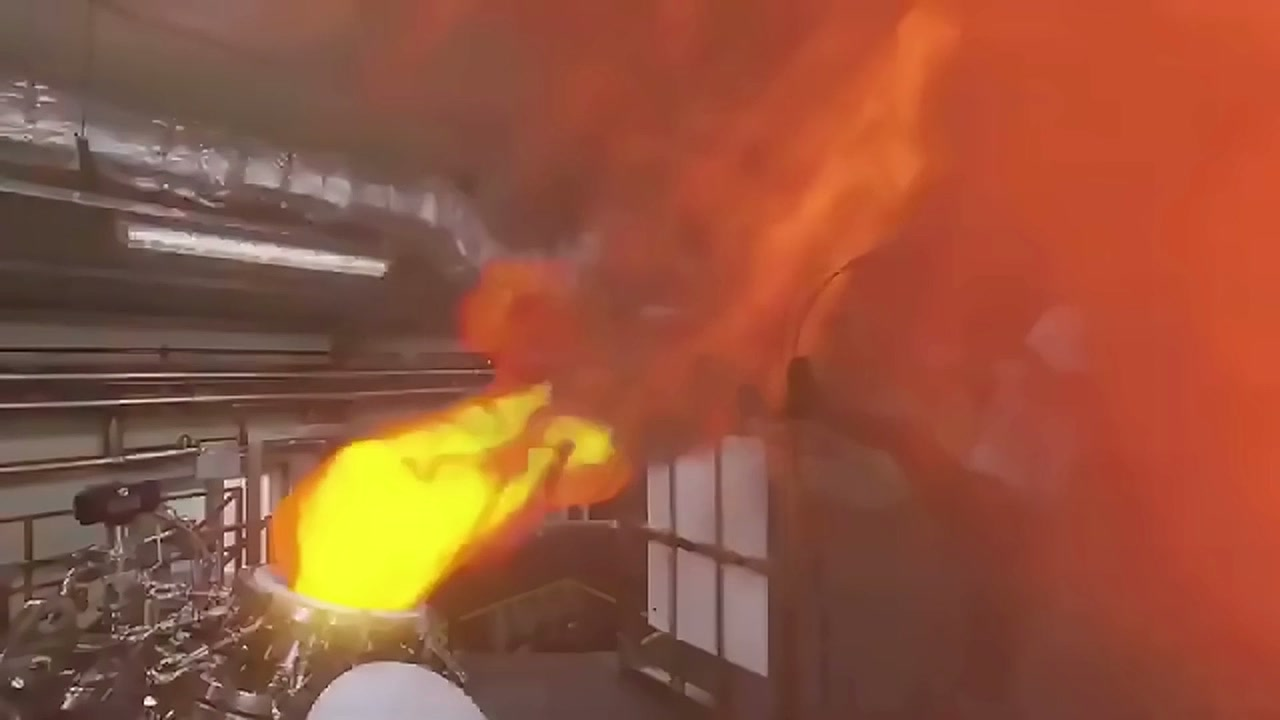fire: (256, 108, 1280, 612)
